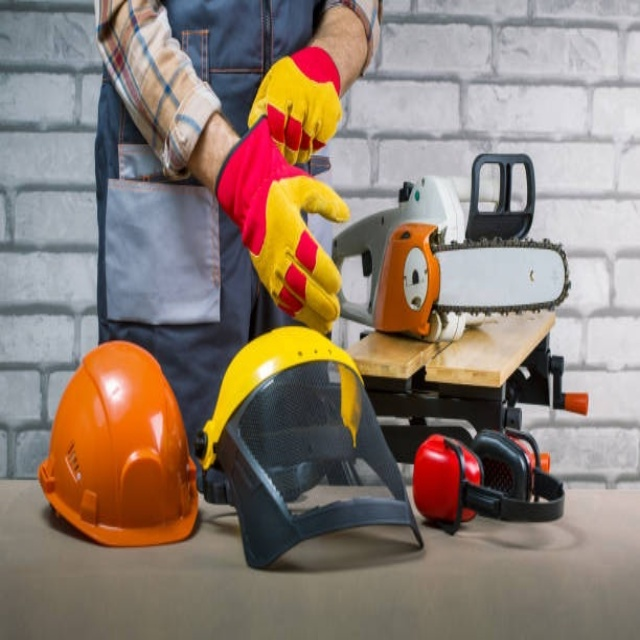Guantes: (233, 166, 348, 335), (248, 49, 345, 167)
